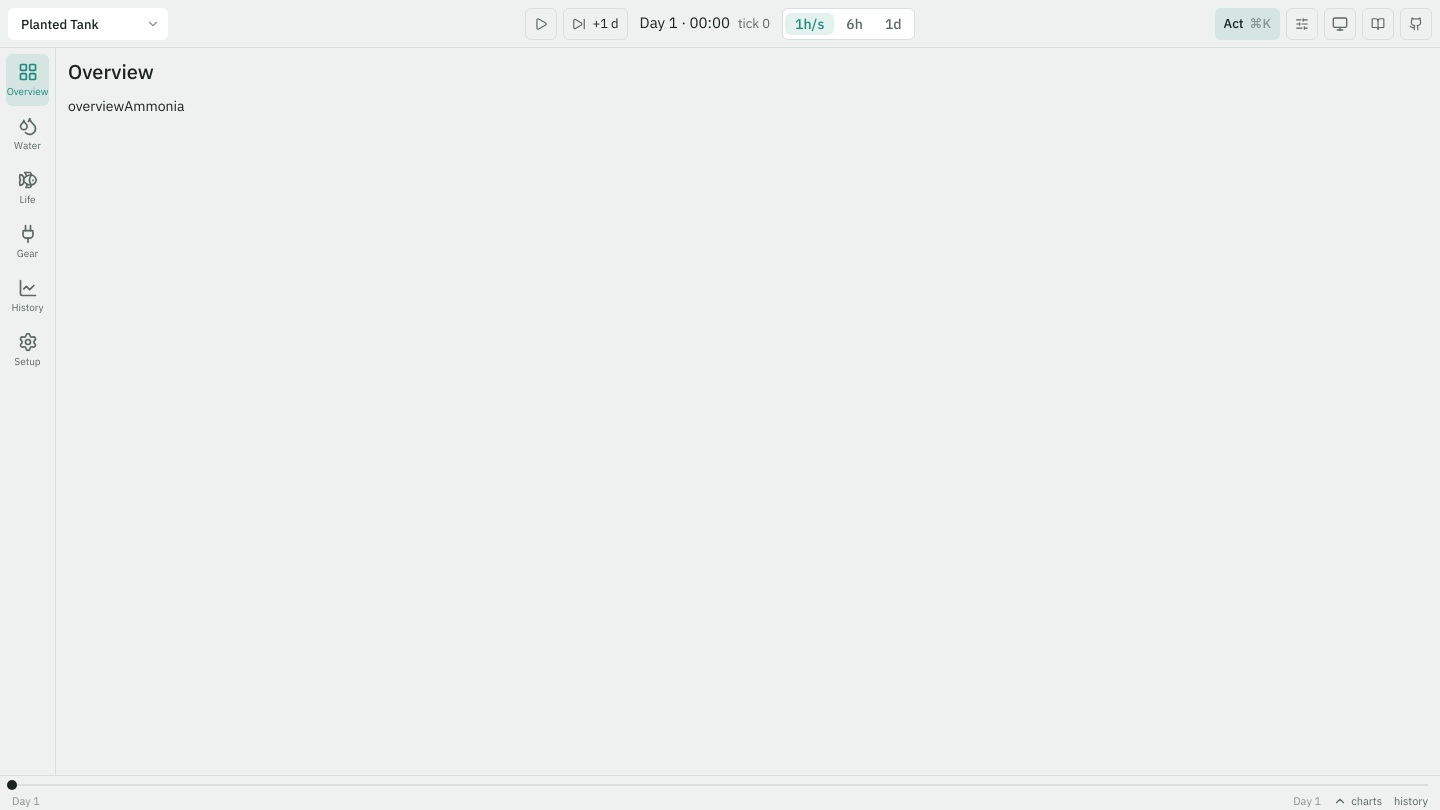
Test: AppShell — the drawer › holds one drawer at a time — Tunables replaces Act
This screenshot has width=1440, height=810.
Click the button "Act ⌘K" at (1247, 24), box 1215,8 -> 1280,40
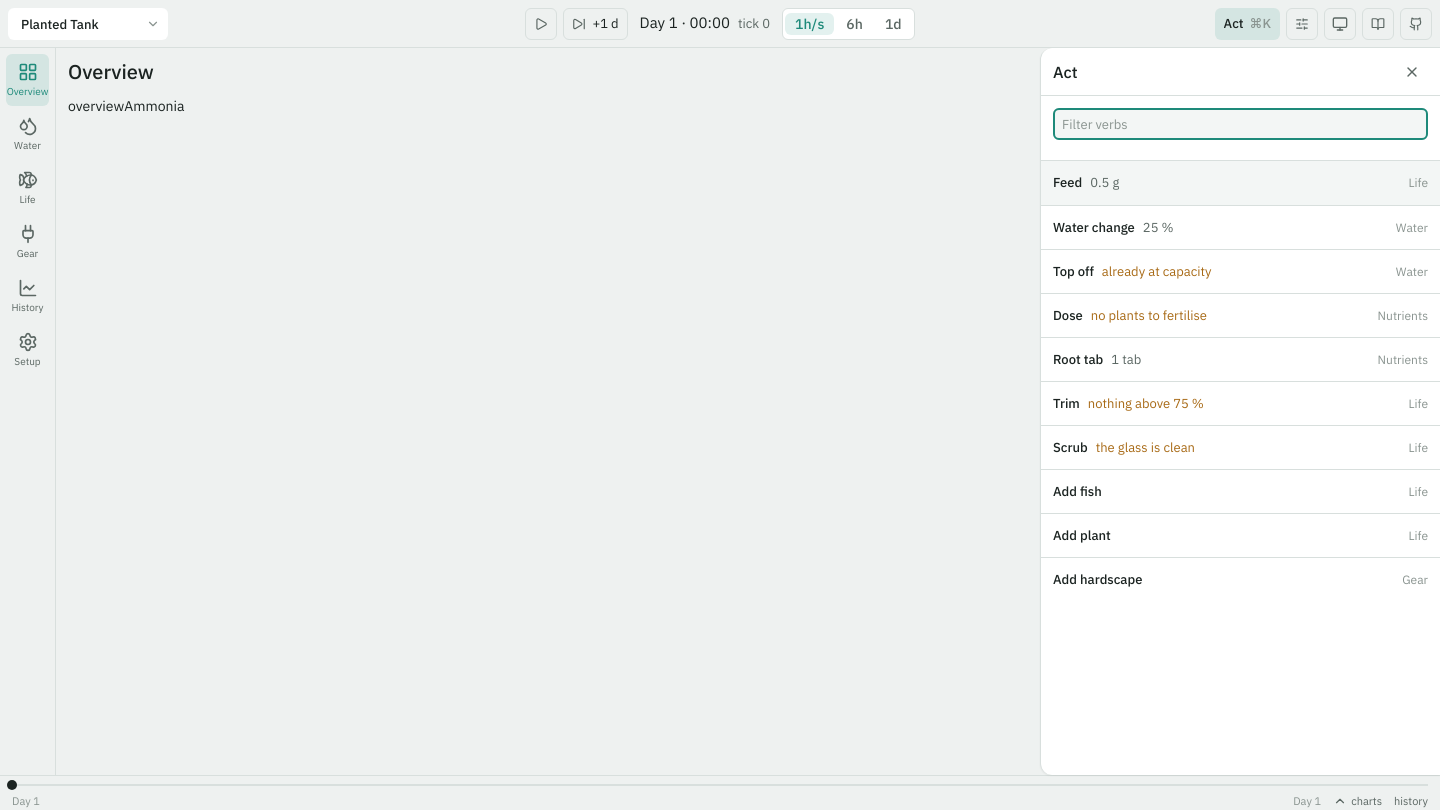
Click the button named "Tunables" at (1302, 24), box 1286,8 -> 1318,40
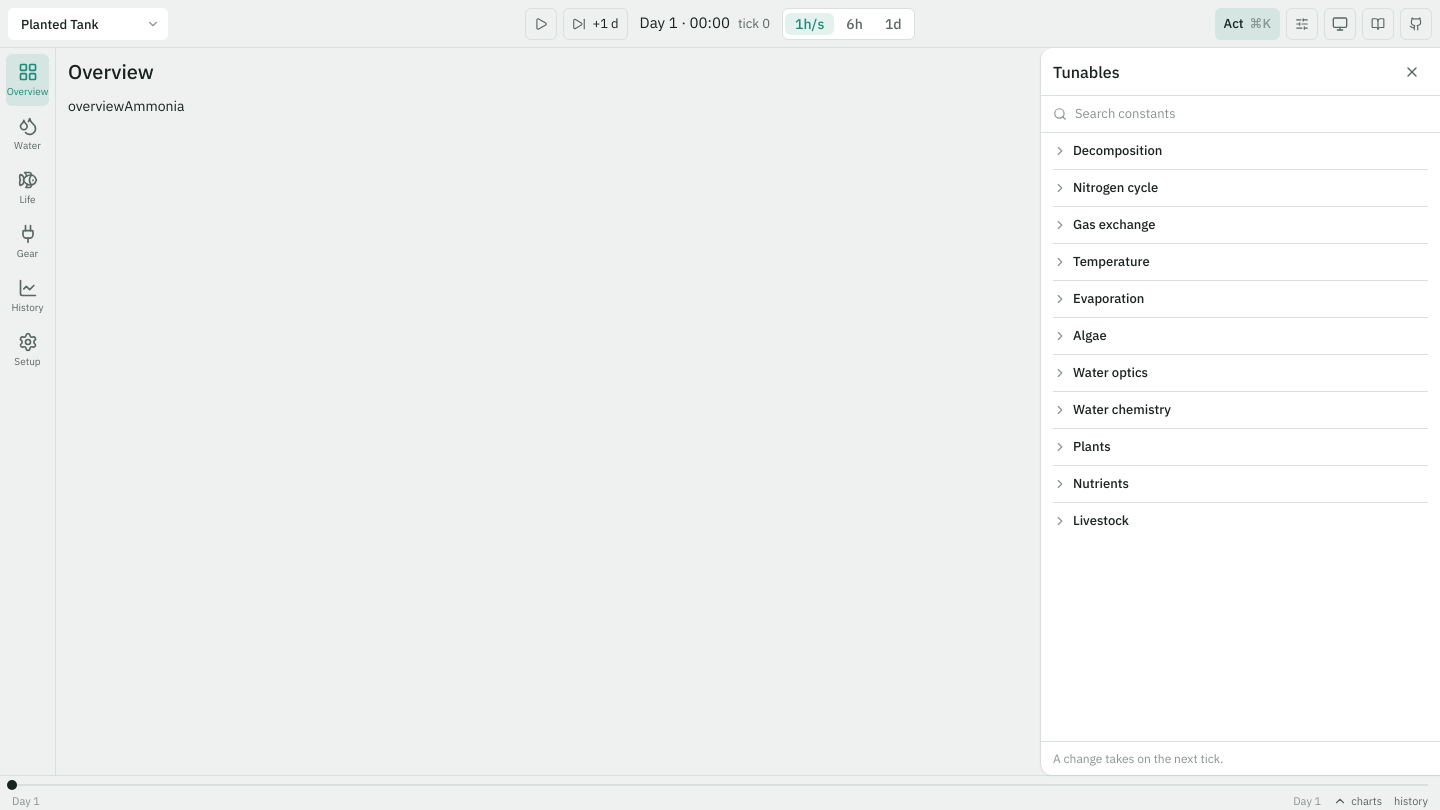
Result: the dialog "Tunables" is shown at 1040,48 -> 1439,775
